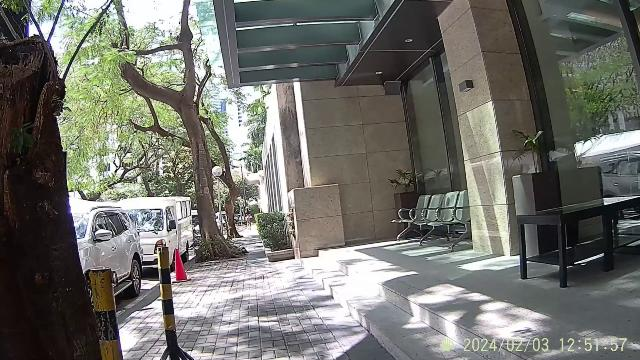bench: (512, 194, 640, 286), (396, 186, 476, 242)
car: (72, 197, 152, 303), (113, 184, 207, 266)
lamp_post: (211, 159, 227, 245)
tree: (156, 24, 228, 264)
